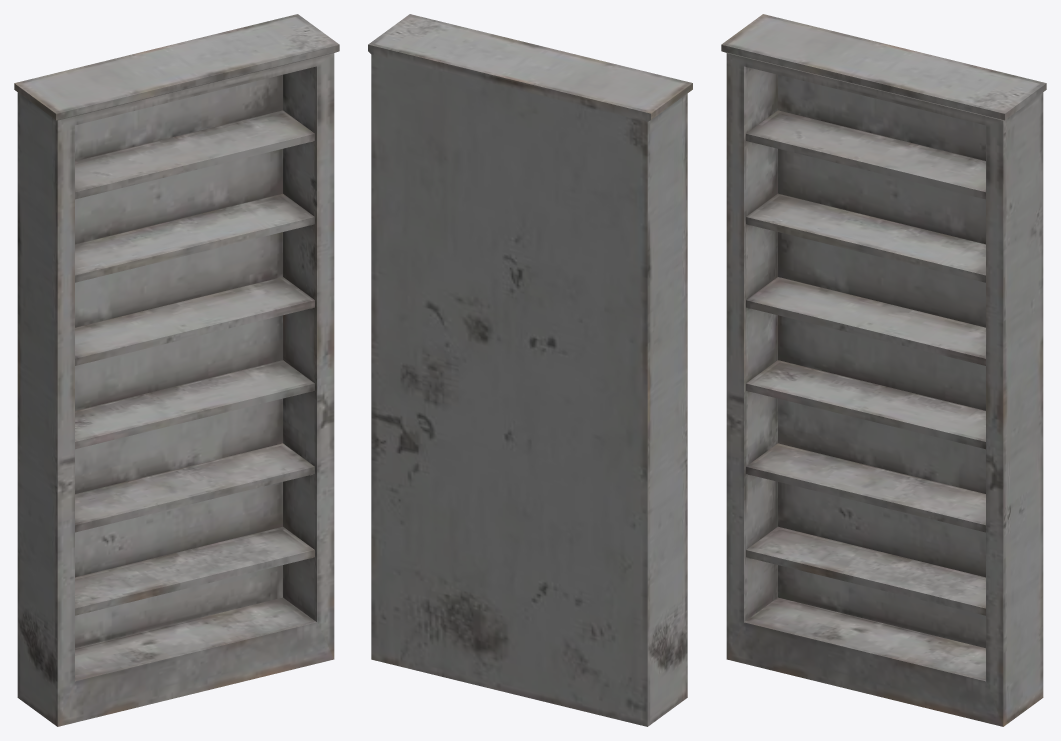
File: hp_room_cc0_shelf.glb
3 renders of one model, left to right at view 1: azimuth 30°, elevation 25°; view 2: azimuth 150°, elevation 25°; view 3: azimuth 330°, elevation 25°, orthographic.
Visible parts, largest first — view 1: Shelf_01; view 2: Shelf_01; view 3: Shelf_01.
Part boxes in pixels (x1=…): Shelf_01: x1=14, y1=14, x2=339, y2=726; Shelf_01: x1=368, y1=14, x2=692, y2=726; Shelf_01: x1=721, y1=14, x2=1046, y2=726.
Bounding box in the file's own units: 1 × 2.08 × 0.257.
1 material, 1 textured.
